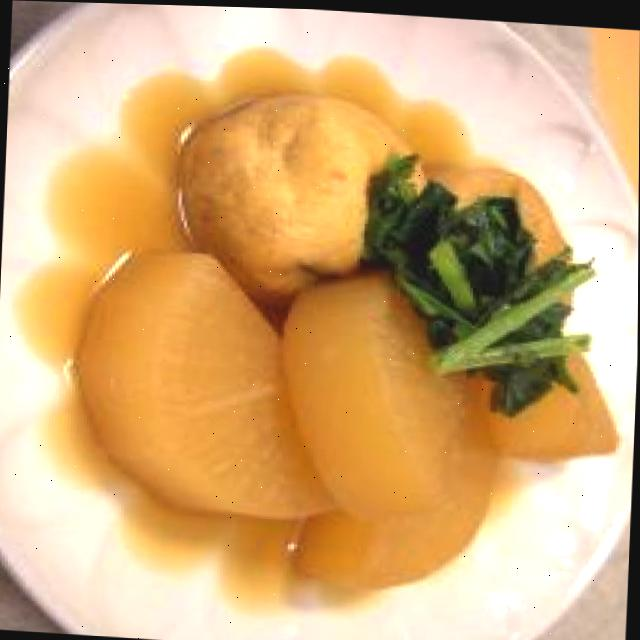熟制海鲜: (85, 90, 622, 632)
